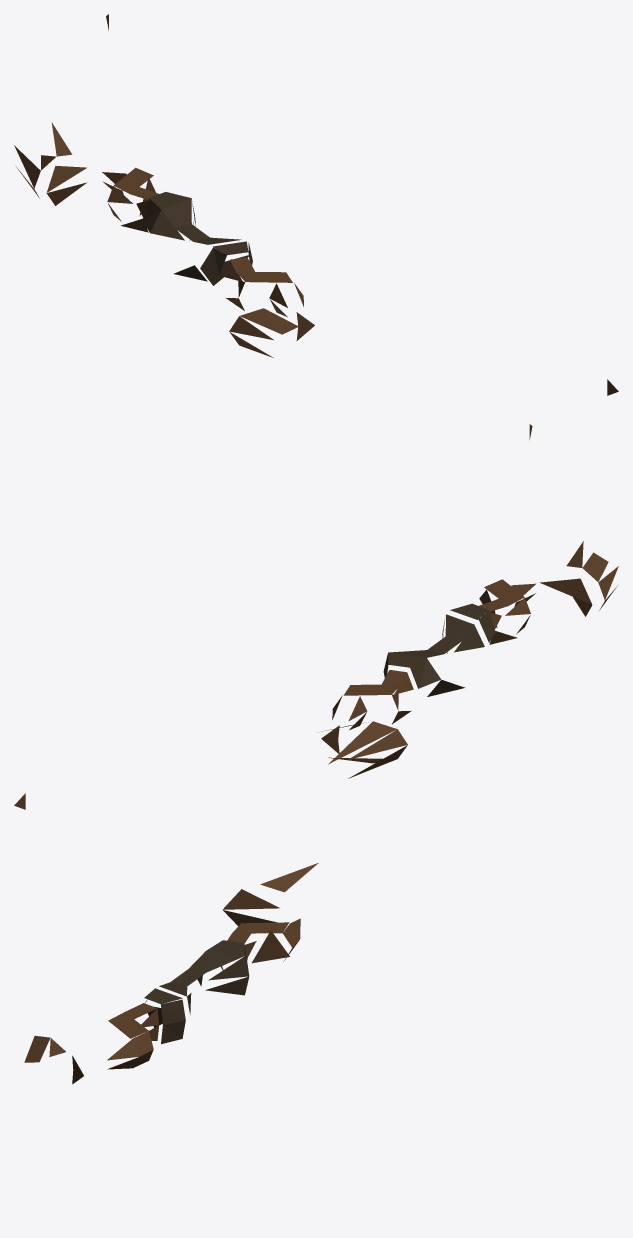
The model's file is shortbow.lod.glb.
3 renders of one model, top to bottom at view 1: azimuth 30°, elevation 25°; view 2: azimuth 150°, elevation 25°; view 3: azimuth 330°, elevation 25°, orthographic.
Visible parts, largest first — view 1: m; view 2: m; view 3: m.
Boxes of the visible parts, box(x1,y1,x2,y2) form: m: box(14, 14, 618, 395); m: box(14, 424, 618, 809); m: box(24, 863, 318, 1084).
Bounding box in the file's own units: 0.1294 × 0.0276 × 0.4984.
